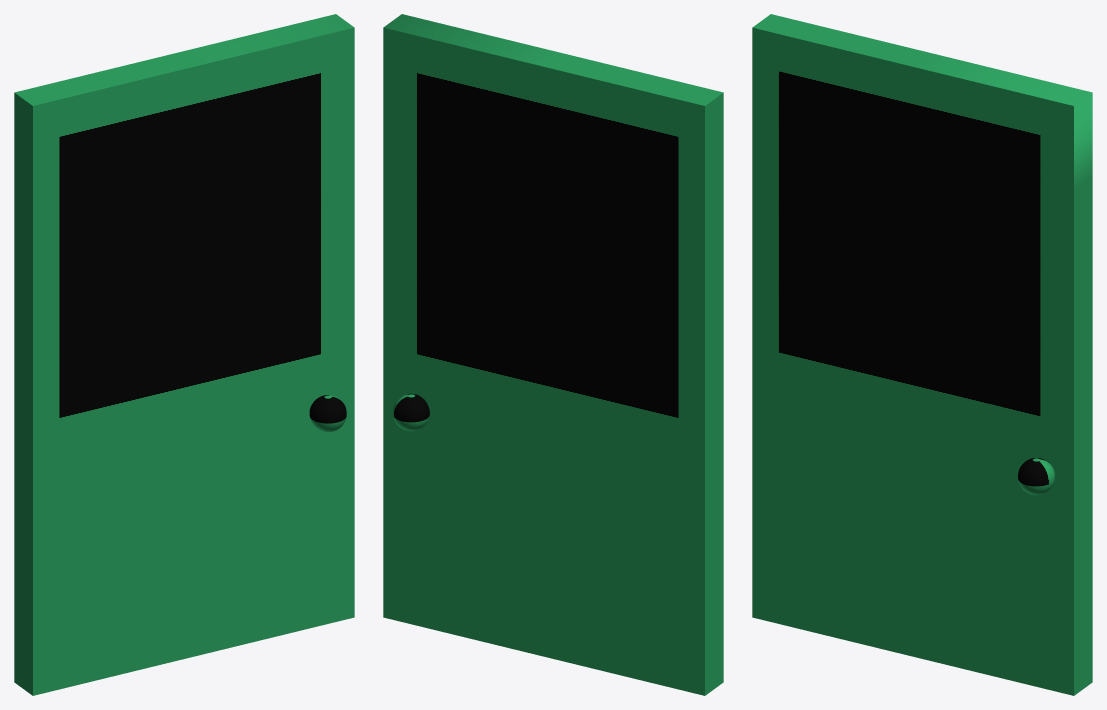
Rendered from puerta1.obj.
3 views of the same model, side by side, from view 1: azimuth 30°, elevation 25°; view 2: azimuth 150°, elevation 25°; view 3: azimuth 330°, elevation 25° (orthographic).
Parts seen in each view (by area): view 1: pasted__pasted__polySurface9 group55; view 2: pasted__pasted__polySurface9 group55; view 3: pasted__pasted__polySurface9 group55.
Part boxes in pixels (x1,y1,x2,y2): pasted__pasted__polySurface9 group55: (14, 14, 354, 695); pasted__pasted__polySurface9 group55: (383, 14, 723, 695); pasted__pasted__polySurface9 group55: (752, 14, 1092, 695).
Bounding box in the file's own units: 0.9989 × 1.75 × 0.2514.
2 materials, 2 textured.
